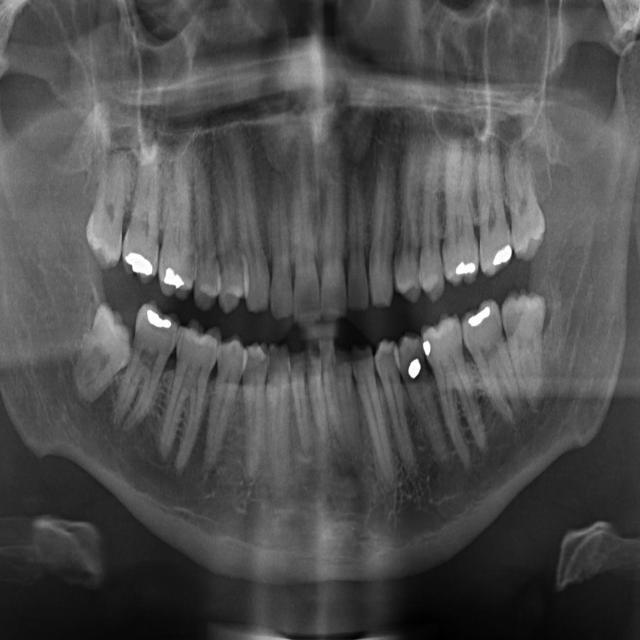3M ESPE Implant: (83, 136, 130, 271)
AGS Medikal Implant: (518, 417, 519, 419)
AMerOss Implant: (416, 308, 495, 478)
Amalgam filling: (120, 135, 170, 286)
Anthogyr Implant: (391, 328, 454, 472)
Bicon Implant: (371, 336, 420, 481)
BioHorizons Implant: (348, 340, 398, 495)
BioLife Implant: (333, 341, 361, 454)
Biomet 3i Implant: (316, 333, 350, 456)
Blue Sky Bio Implant: (300, 337, 334, 451)
Camlog Implant: (287, 338, 314, 462)
Caries: (340, 164, 370, 313)
Composite filling: (265, 340, 292, 497)
Cowellmedi Implant: (240, 341, 267, 484)
Crown: (198, 333, 247, 480)
DENTSPLY Implant: (158, 135, 197, 301)
Dentatus Implant: (150, 314, 226, 477)
Dentis Implant: (122, 421, 122, 423)
Dentium Implant: (61, 300, 146, 410)
Euroteknika Implant: (195, 266, 195, 267)
Filling: (206, 129, 246, 313)
Frontier Implant: (226, 125, 275, 316)
Hiossen Implant: (367, 113, 400, 309)
Implant: (291, 139, 321, 327)
Implant Direct: (270, 167, 296, 322)
Keystone Dental Implant: (321, 137, 348, 323)
MIS Implant: (393, 137, 421, 303)
Mandible: (418, 131, 446, 301)
Maxilla: (439, 133, 480, 287)
Megagen Implant: (476, 134, 513, 277)
Neodent Implant: (498, 134, 551, 264)
Neoss Implant: (537, 387, 538, 388)
